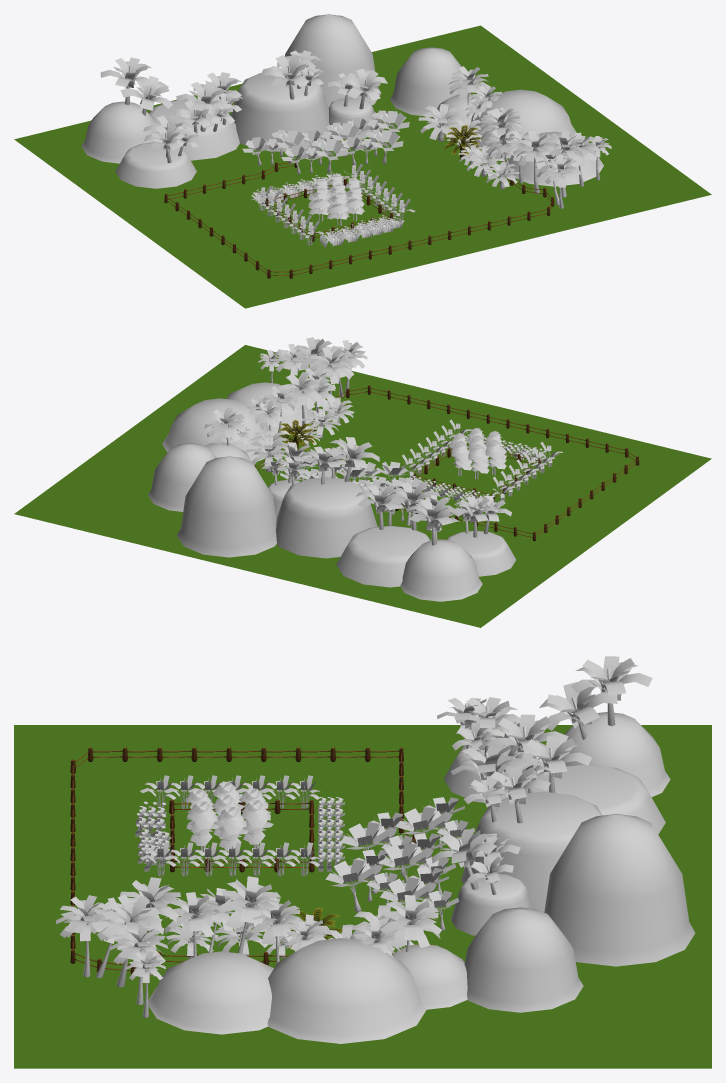
The model's file is SampleScene2.FBX.
3 renders of one model, top to bottom at view 1: azimuth 30°, elevation 25°; view 2: azimuth 150°, elevation 25°; view 3: azimuth 270°, elevation 25°, orthographic. The views are drawn at different scales.
Visible parts, largest first — view 1: Plane081, Object266, Object265, Object271, Object269, Object273, Object270, Object185, Object268, Object274, Banana_015, Cylinder108 (+23 smaller); view 2: Plane081, Object265, Object266, Object269, Object268, Object273, Object271, Object185, Object270, Object274, Cylinder100, Cylinder096 (+19 smaller); view 3: Plane081, Object265, Object273, Object271, Object274, Object266, Object269, Object268, Object185, Object272, Object267, Cylinder104 (+35 smaller).
Boxes of the visible parts, <box> form: Plane081: <box>14,25,711,308</box>; Object266: <box>230,73,329,151</box>; Object265: <box>284,14,381,107</box>; Object271: <box>390,47,470,116</box>; Object269: <box>81,101,156,163</box>; Object273: <box>468,89,576,158</box>; Object270: <box>115,142,196,188</box>; Object185: <box>164,133,554,278</box>; Object268: <box>149,99,239,160</box>; Object274: <box>506,131,603,186</box>; Banana_015: <box>260,54,314,99</box>; Cylinder108: <box>512,130,557,193</box>; Plane081: <box>14,345,711,627</box>; Object265: <box>177,456,276,557</box>; Object266: <box>276,477,377,558</box>; Object269: <box>400,539,482,601</box>; Object268: <box>336,525,430,587</box>; Object273: <box>162,398,269,461</box>; Object271: <box>148,443,215,511</box>; Object185: <box>255,385,639,541</box>; Object270: <box>447,530,516,576</box>; Object274: <box>226,382,313,435</box>; Cylinder100: <box>278,372,321,429</box>; Cylinder096: <box>204,407,245,445</box>; Plane081: <box>14,725,711,1068</box>; Object265: <box>544,814,695,966</box>; Object273: <box>267,938,426,1043</box>; Object271: <box>464,907,583,1012</box>; Object274: <box>148,951,273,1034</box>; Object266: <box>461,791,602,912</box>; Object269: <box>564,712,670,797</box>; Object268: <box>526,764,665,834</box>; Object185: <box>70,747,416,974</box>; Object272: <box>391,944,467,1009</box>; Object267: <box>450,874,532,935</box>; Cylinder104: <box>95,894,163,987</box>.
Size of the model in its own units: 1123 by 197 by 963.
